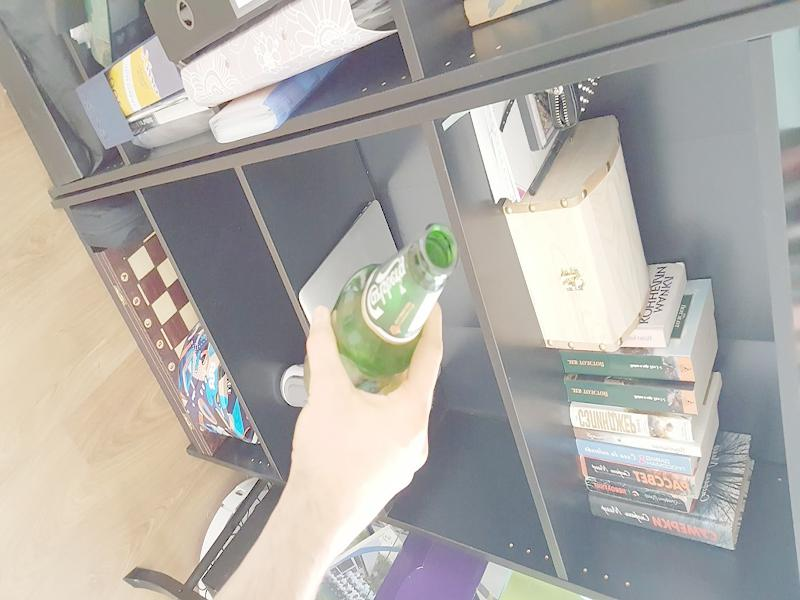Beer: (303, 222, 456, 405)
